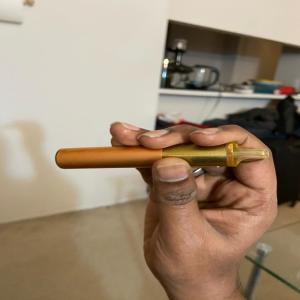Golden-E-Ciggirate: (48, 140, 270, 172)
